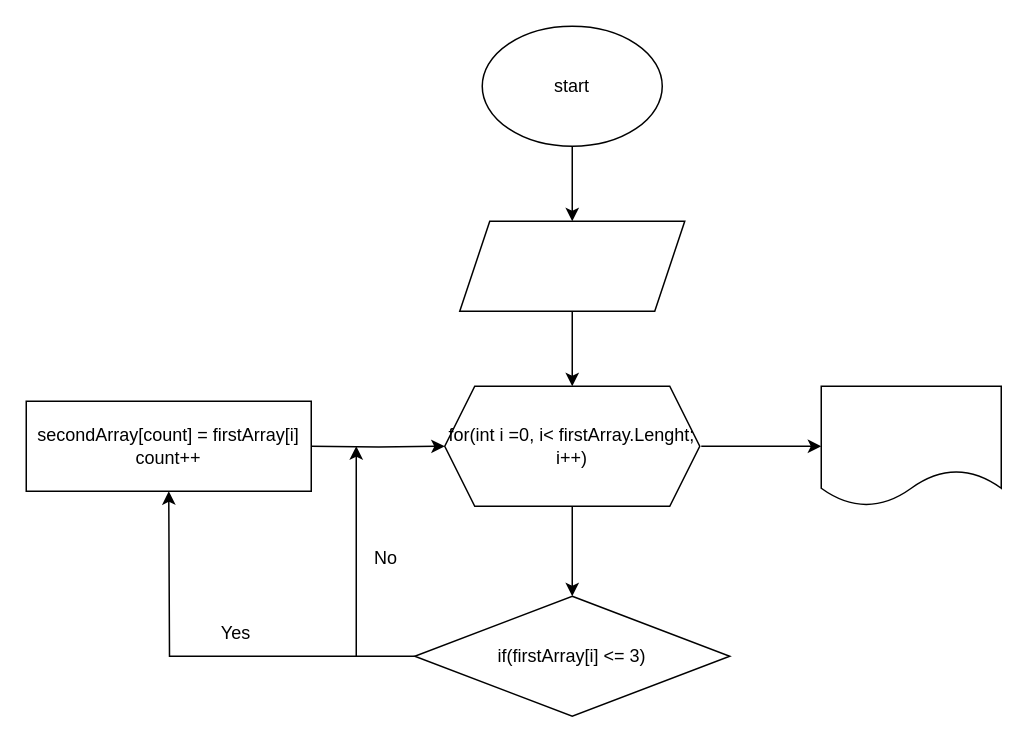
The diagram is 1028 pixels wide and 743 high, and some of its shapes have lost their labels. The shapes that lost their labels are listed below. From the top down, each one's centre as x and y in pixels, then its label:
At point 571,265: "string[]firstArray string[]secondArray int count =0".
At point 910,445: "Print".
